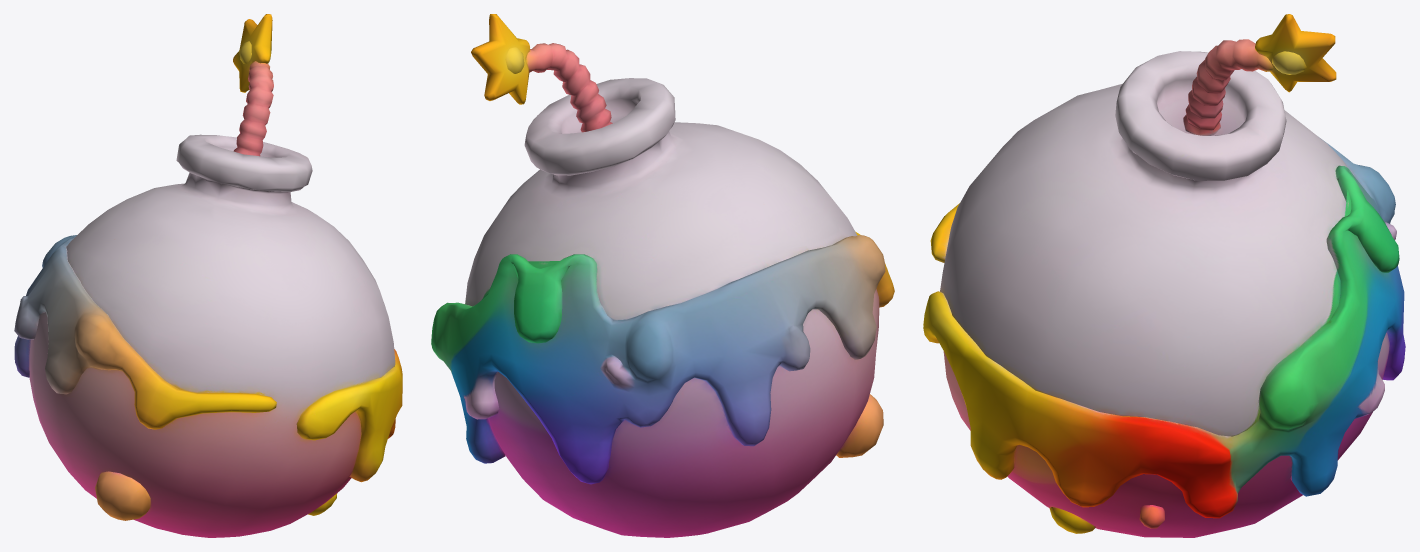
Rendered from paint-bomb.glb.
3 views of the same model, side by side, from view 1: azimuth 30°, elevation 25°; view 2: azimuth 150°, elevation 25°; view 3: azimuth 270°, elevation 25° (orthographic). The views are drawn at different scales.
Parts seen in each view (by area): view 1: tripo_node_130a0af1-6a29-4940-bca2-d36fbed1f3e2; view 2: tripo_node_130a0af1-6a29-4940-bca2-d36fbed1f3e2; view 3: tripo_node_130a0af1-6a29-4940-bca2-d36fbed1f3e2.
Boxes of the visible parts, bbox=[...] form: tripo_node_130a0af1-6a29-4940-bca2-d36fbed1f3e2: bbox=[14, 14, 402, 537]; tripo_node_130a0af1-6a29-4940-bca2-d36fbed1f3e2: bbox=[431, 14, 894, 537]; tripo_node_130a0af1-6a29-4940-bca2-d36fbed1f3e2: bbox=[923, 14, 1405, 537].
Size of the model in its own units: 0.791 by 0.998 by 0.7754.
1 material, 1 textured.
